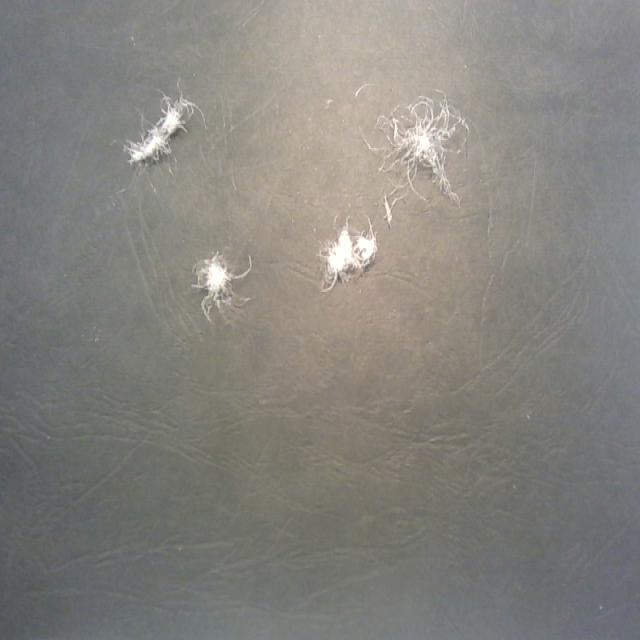feather: (376, 86, 466, 218), (119, 82, 199, 170), (194, 248, 252, 316), (317, 206, 354, 286), (350, 219, 380, 277)
